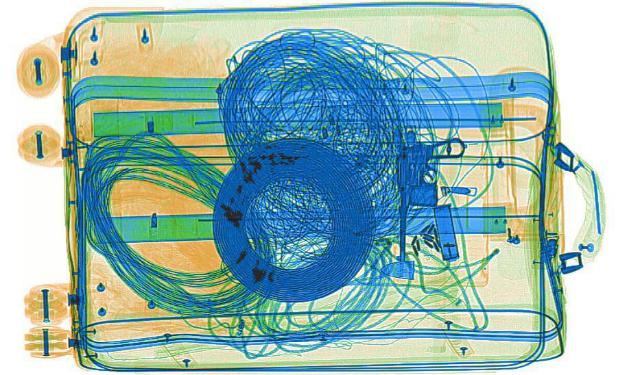Gun: (389, 137, 467, 264)
